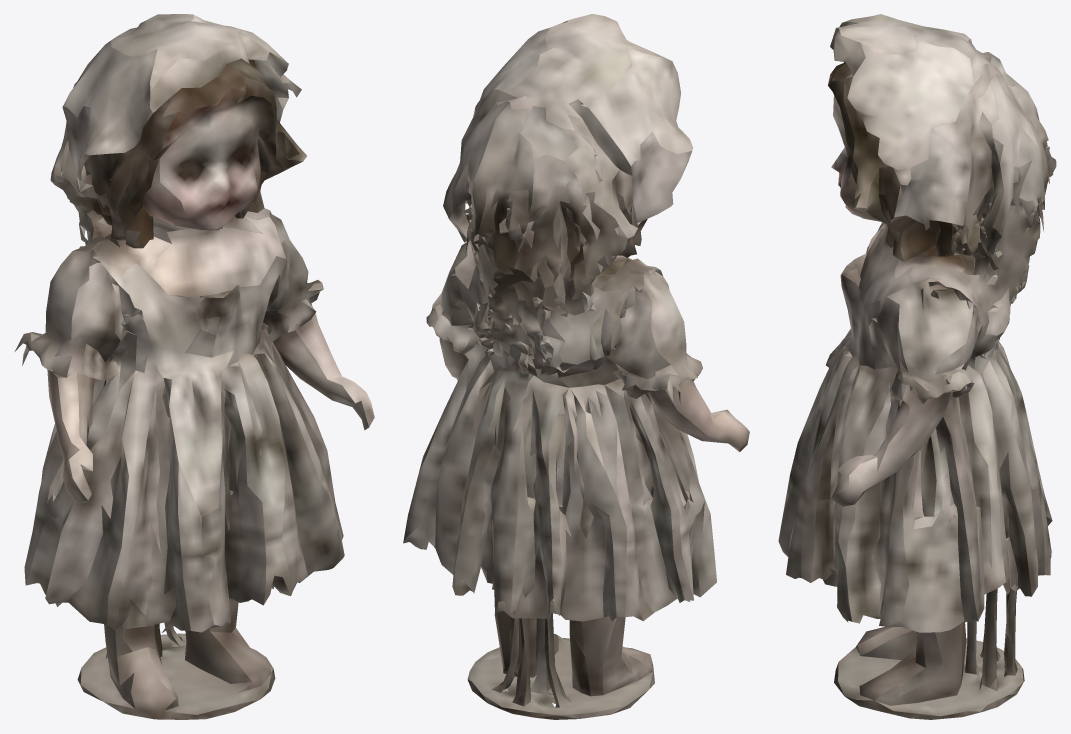
Rendered from doll.glb.
The picture shows the model from 3 angles, left to right: view 1: azimuth 30°, elevation 25°; view 2: azimuth 150°, elevation 25°; view 3: azimuth 270°, elevation 25°; orthographic projection. The views are drawn at different scales.
Visible parts, largest first — view 1: geometry_0; view 2: geometry_0; view 3: geometry_0.
Boxes of the visible parts, box(x1,y1,x2,y2) form: geometry_0: box(14, 14, 374, 719); geometry_0: box(403, 14, 749, 719); geometry_0: box(778, 14, 1056, 719).
Size of the model in its own units: 0.214 by 0.45 by 0.1735.
1 material, 1 textured.
